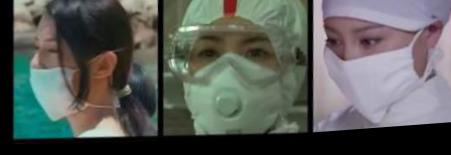OK: (186, 28, 293, 137), (319, 24, 419, 126)
WRONG: (20, 22, 107, 123)
